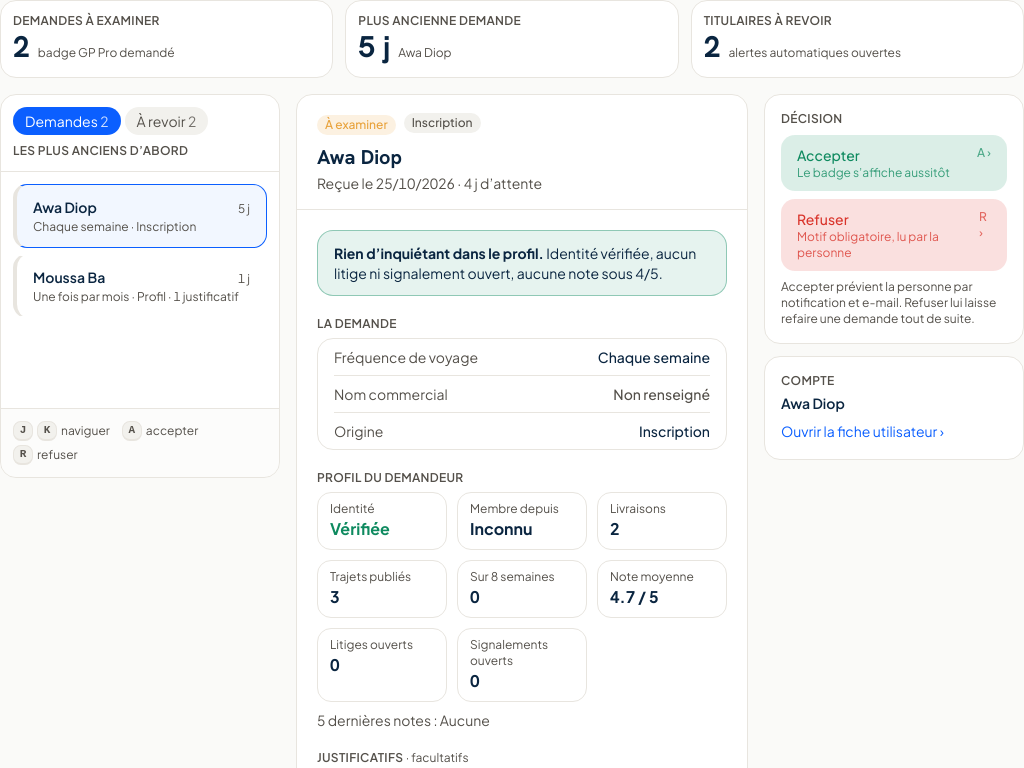
/gp-pro › accepter : la demande est relue (statut accepté) et la file aussi, le dossier reste affiché
The image size is (1024, 768).
Step 1. Click the button with test id "gp-pro-approve" → (894, 163), box x1=781 y1=135 x2=1007 y2=191
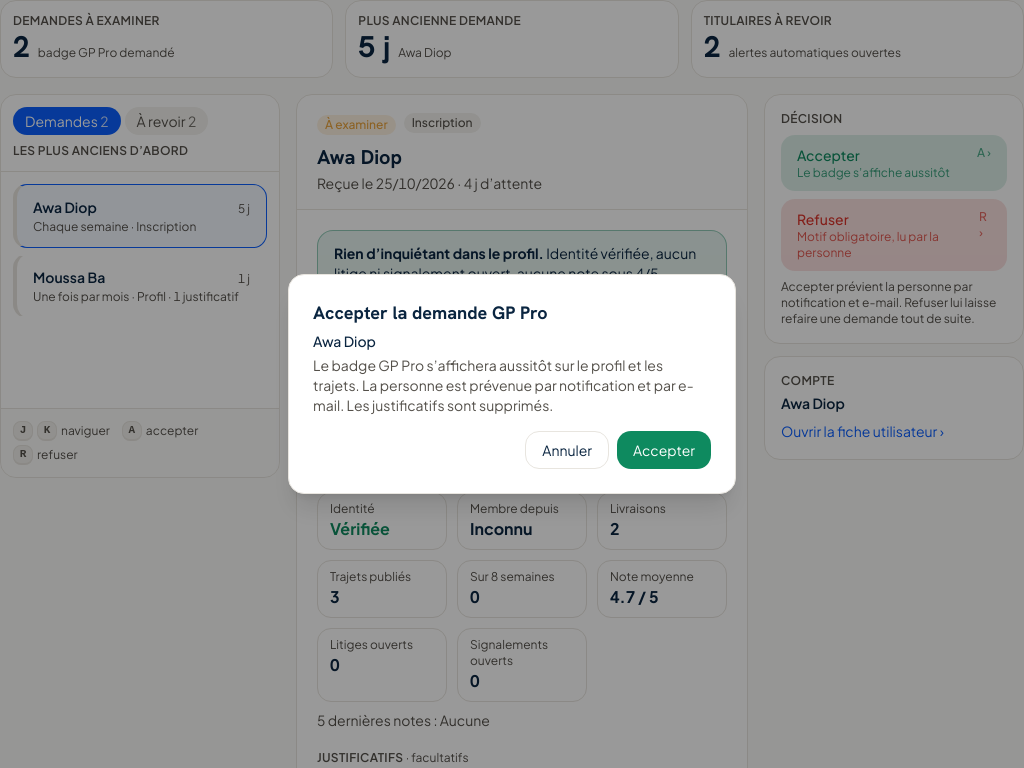
Step 2. Click the button with test id "gp-pro-dialog-submit" → (664, 450), box x1=617 y1=431 x2=711 y2=469
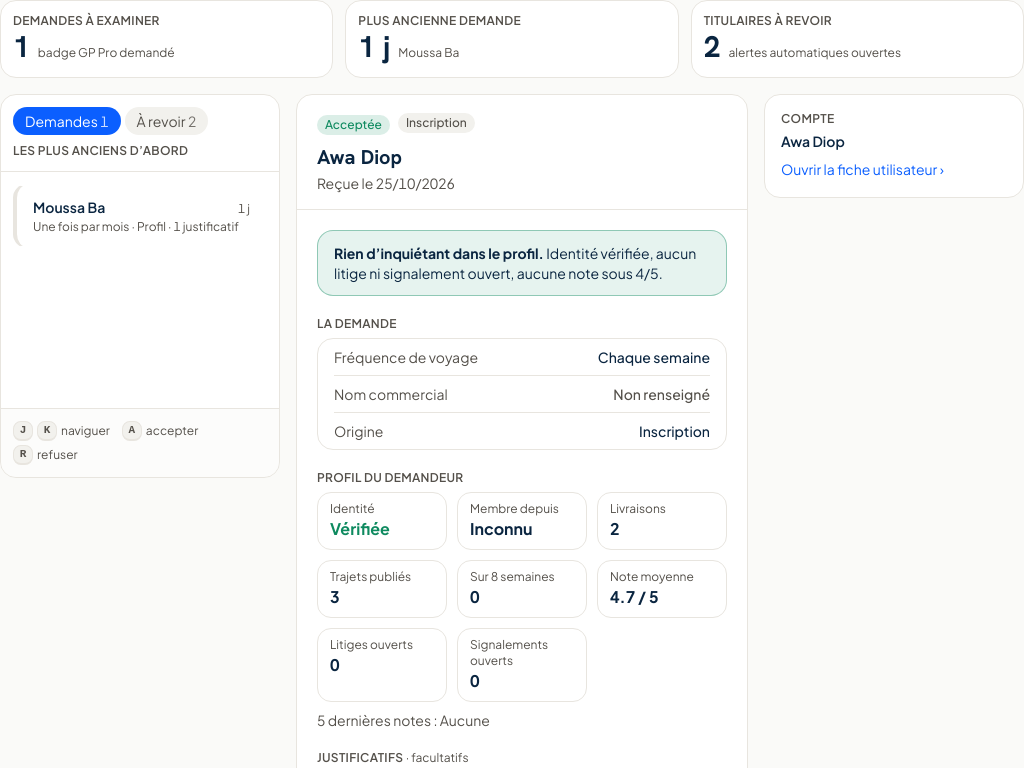
Expected: the heading with test id "gp-pro-case-title" reads "Awa Diop", x1=317 y1=144 x2=402 y2=170
Now the element with test id "gp-pro-detail-status" reads "Acceptée", box x1=325 y1=117 x2=382 y2=132
